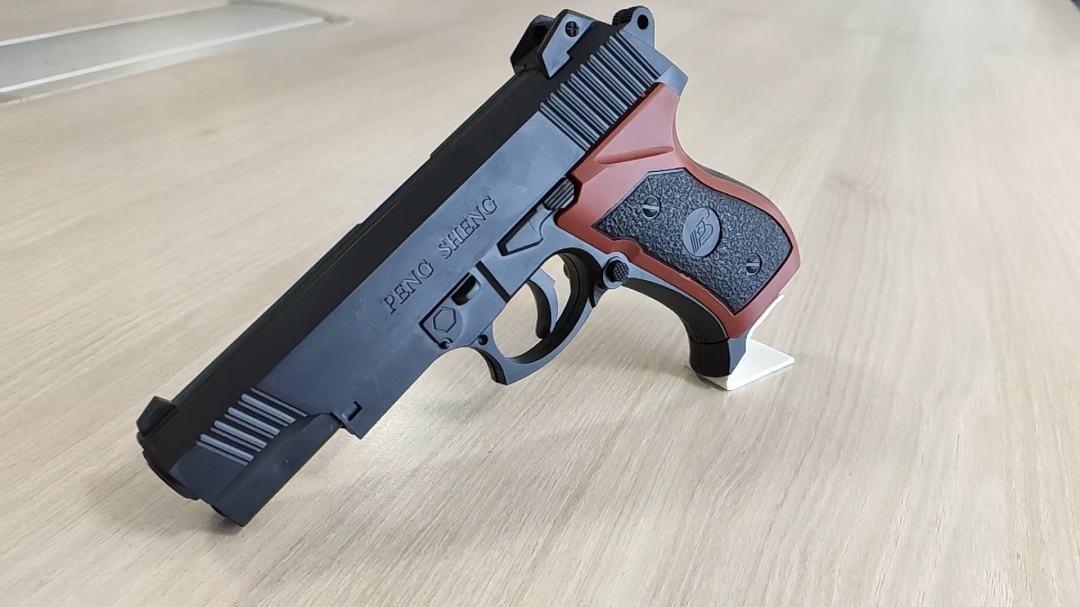gun: (616, 210, 632, 225)
